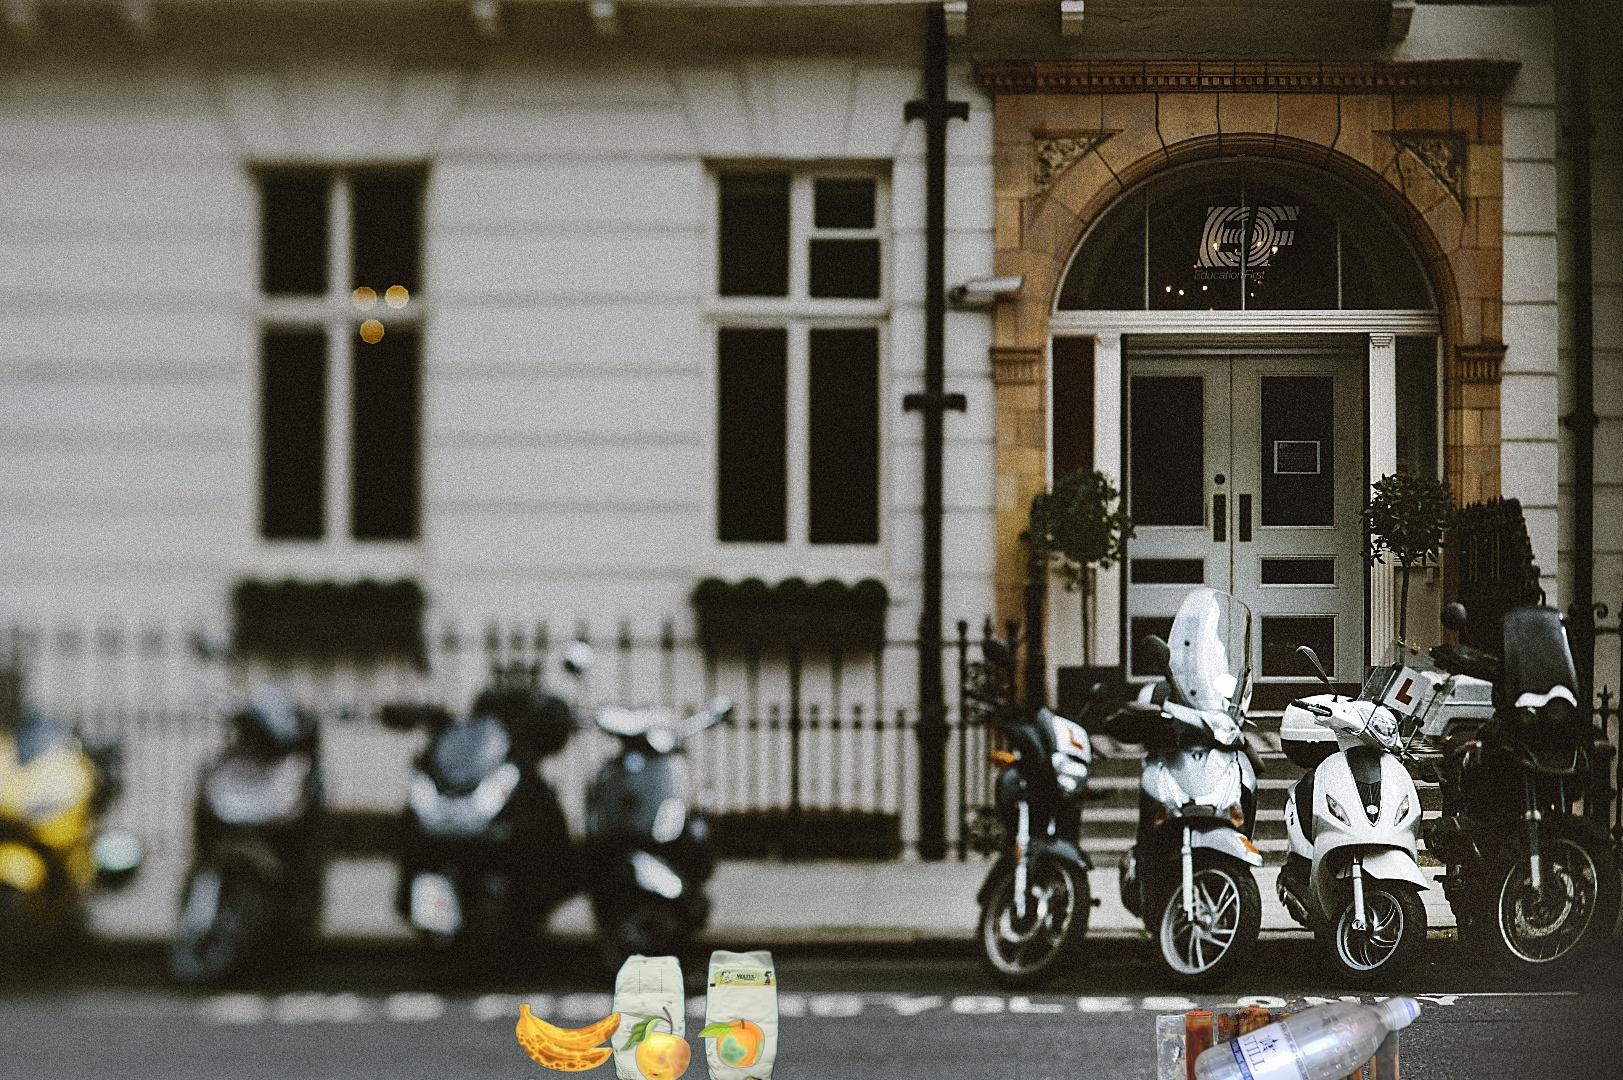battery: (1152, 1000, 1403, 1080)
biological: (514, 1000, 768, 1080)
plastic-bottles: (1093, 990, 1605, 1080), (496, 1072, 614, 1080)
trash: (608, 947, 780, 1080)
trashbox-cardboard: (1429, 383, 1623, 683)
